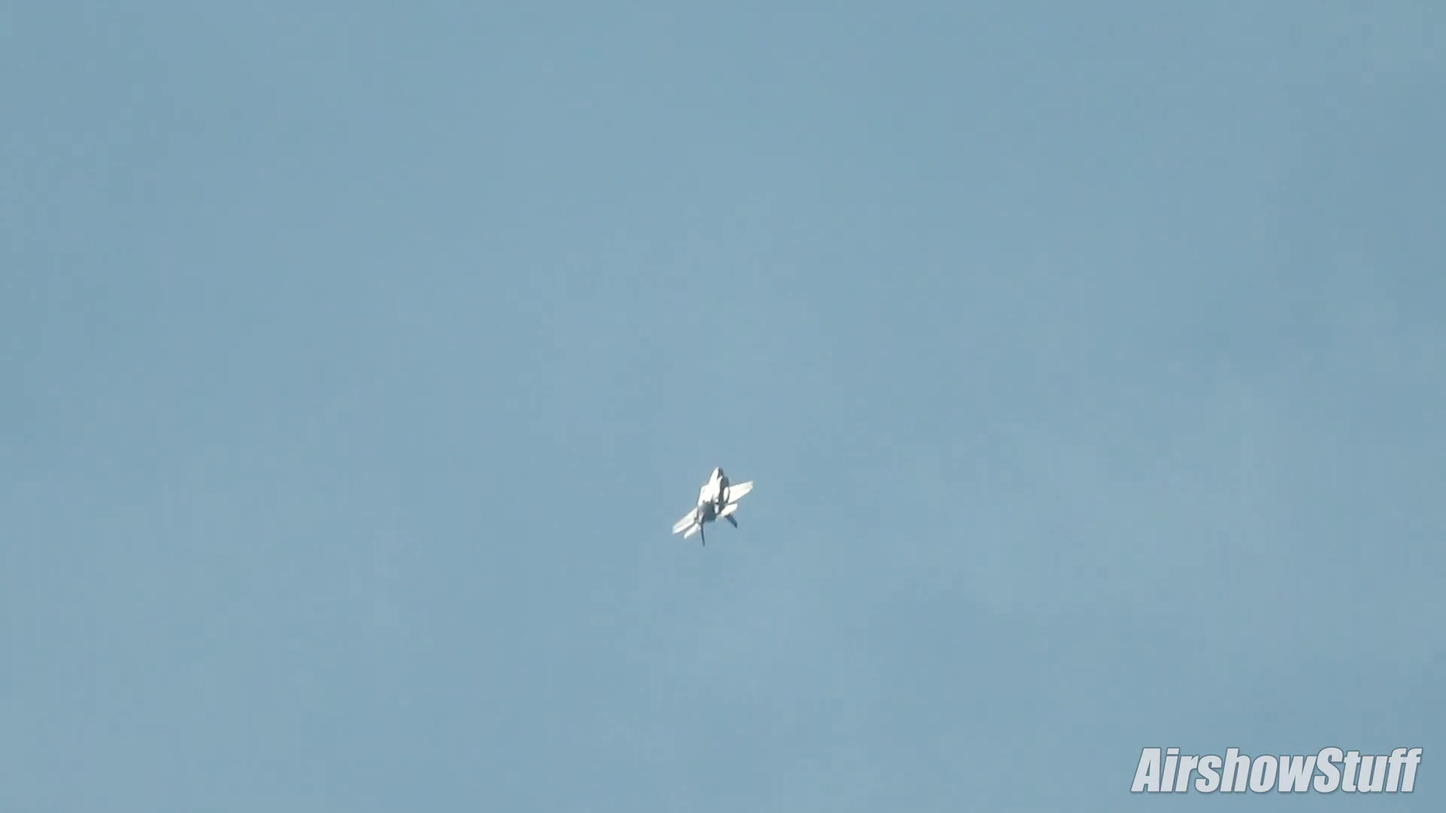F35: (667, 461, 757, 550)
